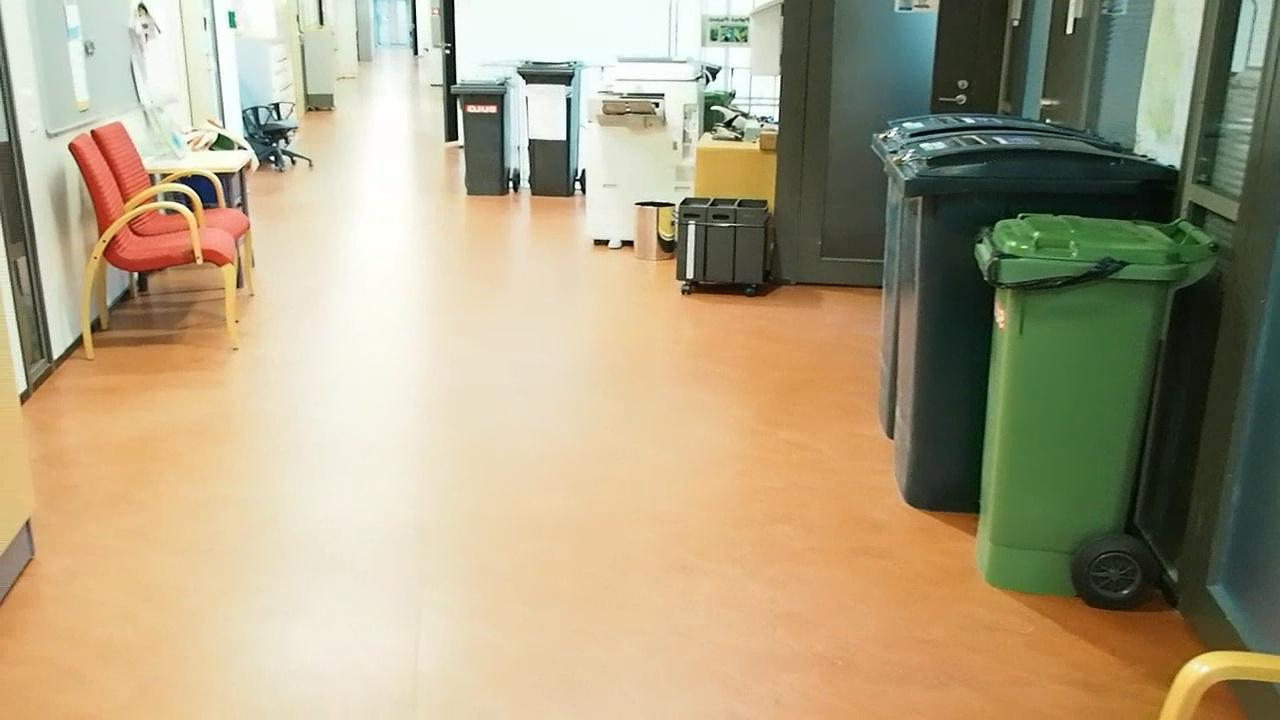chair: (58, 113, 251, 347)
trashbin: (965, 196, 1216, 611), (861, 97, 972, 513), (453, 71, 520, 198)
